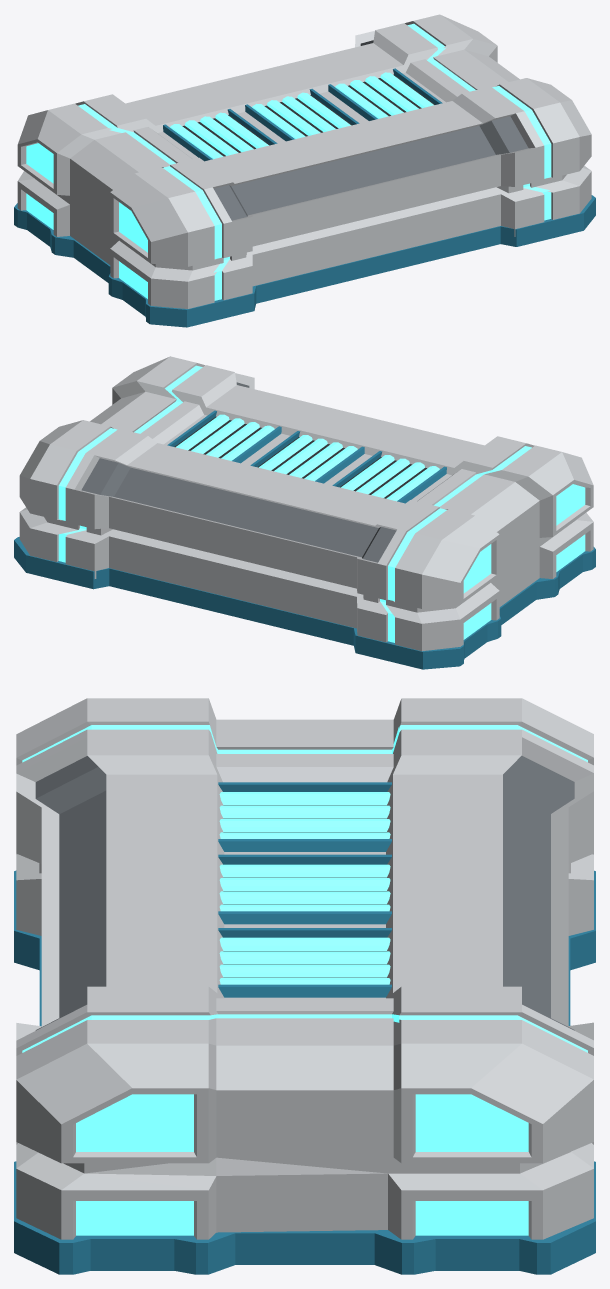
Rendered from chest_chesttop-wsEPfzVq.glb.
3 renders of one model, top to bottom at view 1: azimuth 30°, elevation 25°; view 2: azimuth 150°, elevation 25°; view 3: azimuth 270°, elevation 25°, orthographic. The views are drawn at different scales.
Visible parts, largest first — view 1: Props_ChestTop; view 2: Props_ChestTop; view 3: Props_ChestTop.
Boxes of the visible parts, left/top/right/bottom form: Props_ChestTop: left=14, top=14, right=595, bottom=327; Props_ChestTop: left=14, top=356, right=595, bottom=669; Props_ChestTop: left=14, top=698, right=595, bottom=1274.
Size of the model in its own units: 1.29 by 0.3151 by 0.8052.
